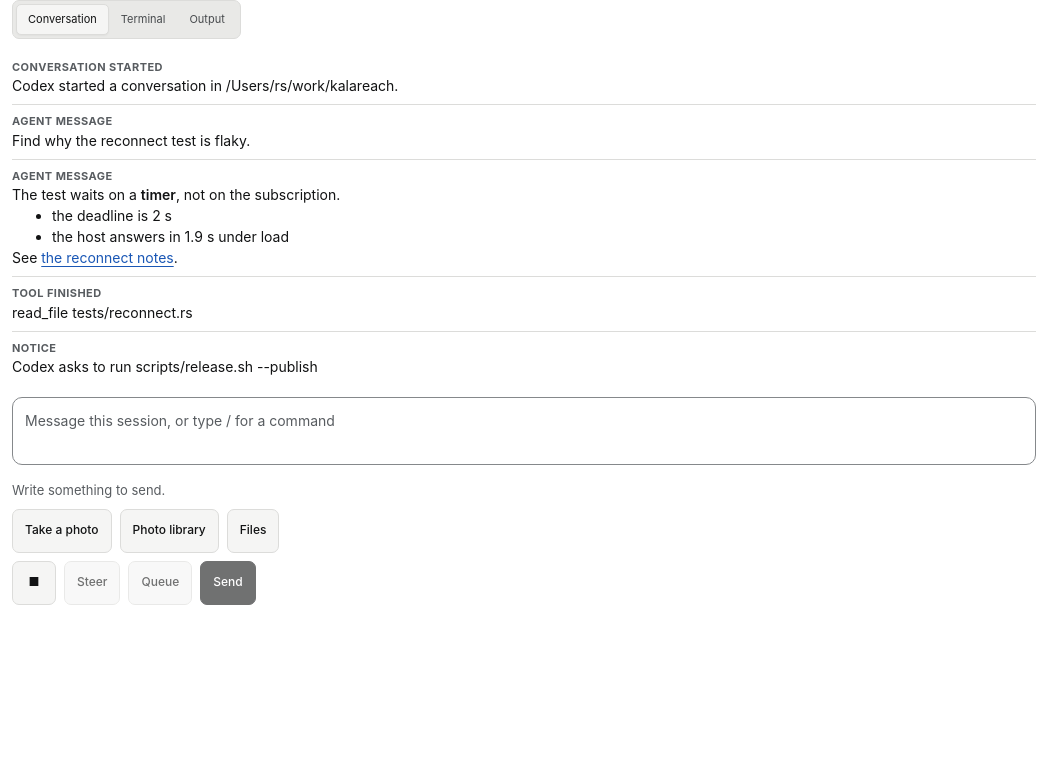
Test: the phone's slash commands (KR-REQ-13.12) › tells a screen reader which list the field controls and how many commands it holds, and nothing once it closes
The image size is (1048, 768).
Expected: the text "Find why the reconnect test is flaky." is shown, 12,132 -> 250,148
In the text box labelled "Message this session": [524, 431] box 12,397 -> 1036,465, type "/"
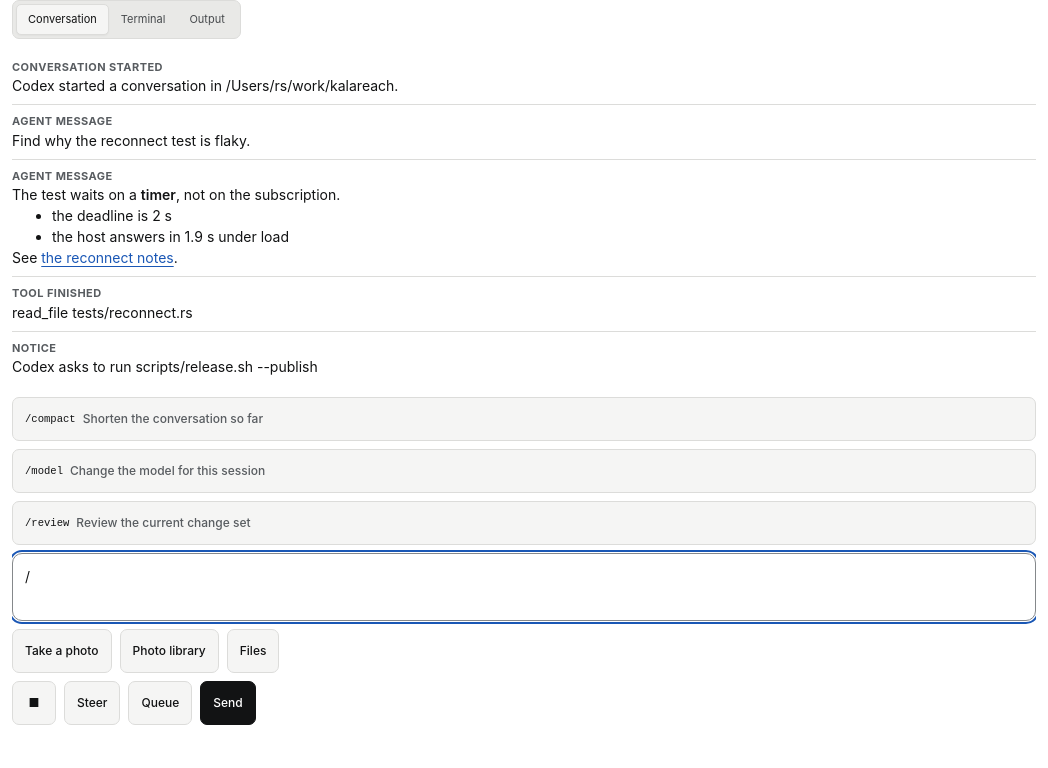
# The list changes length: one command is "1 command".
In the text box named "Message this session": [524, 587] box 12,553 -> 1036,621, type "re"
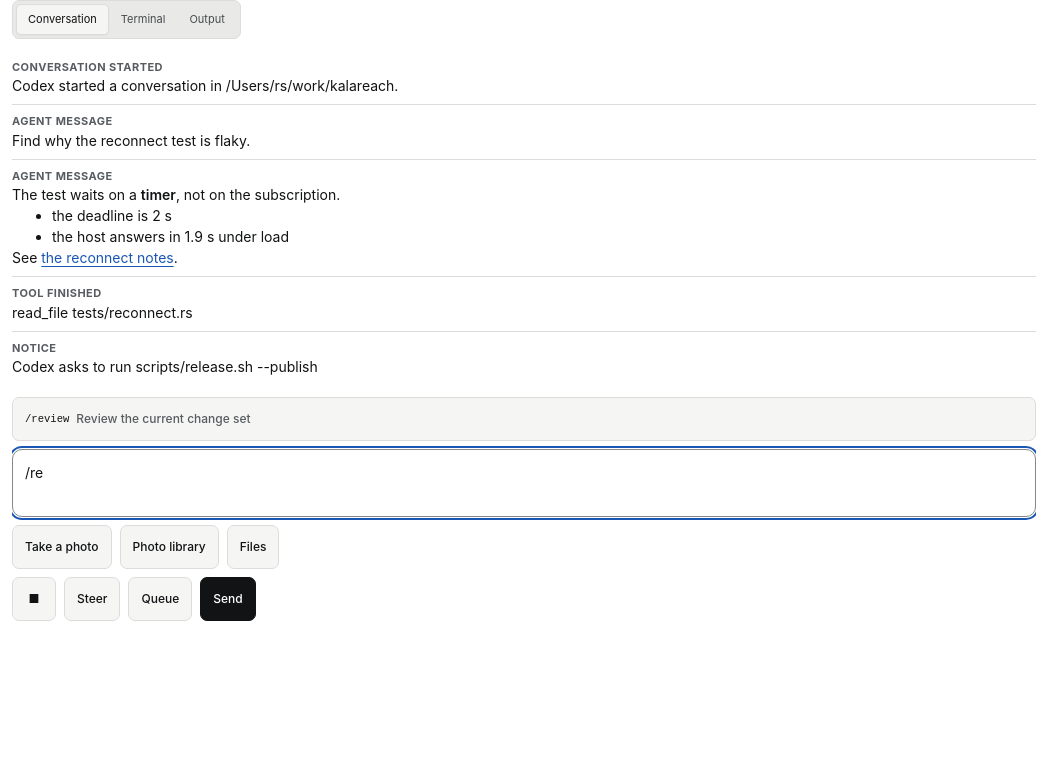
Click the button "/review Review the current change set": [50, 419] box 12,397 -> 1036,441
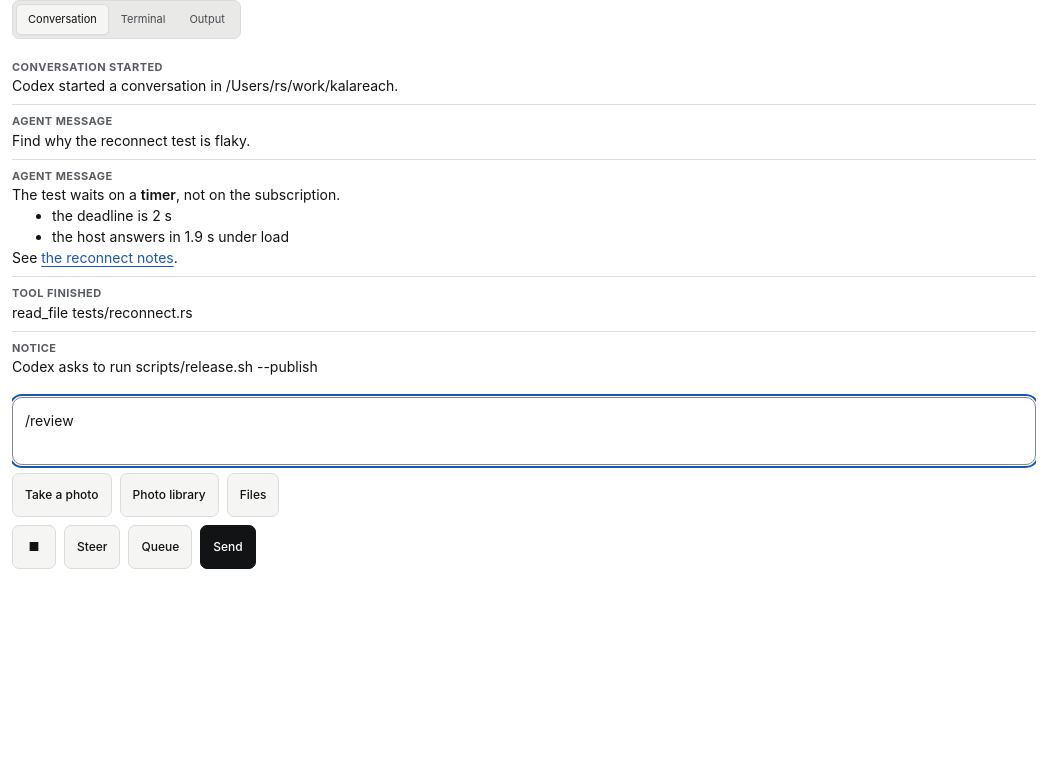
Expected: the list with test id "slash-commands" is gone
